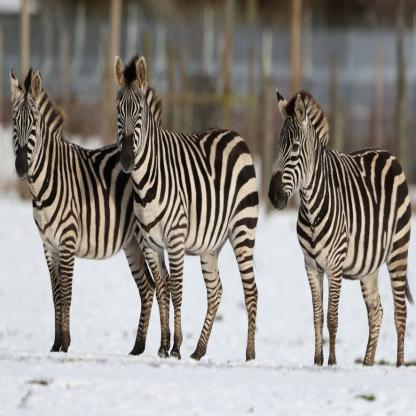zebra: (113, 43, 263, 378), (10, 60, 161, 362), (268, 86, 416, 375)
